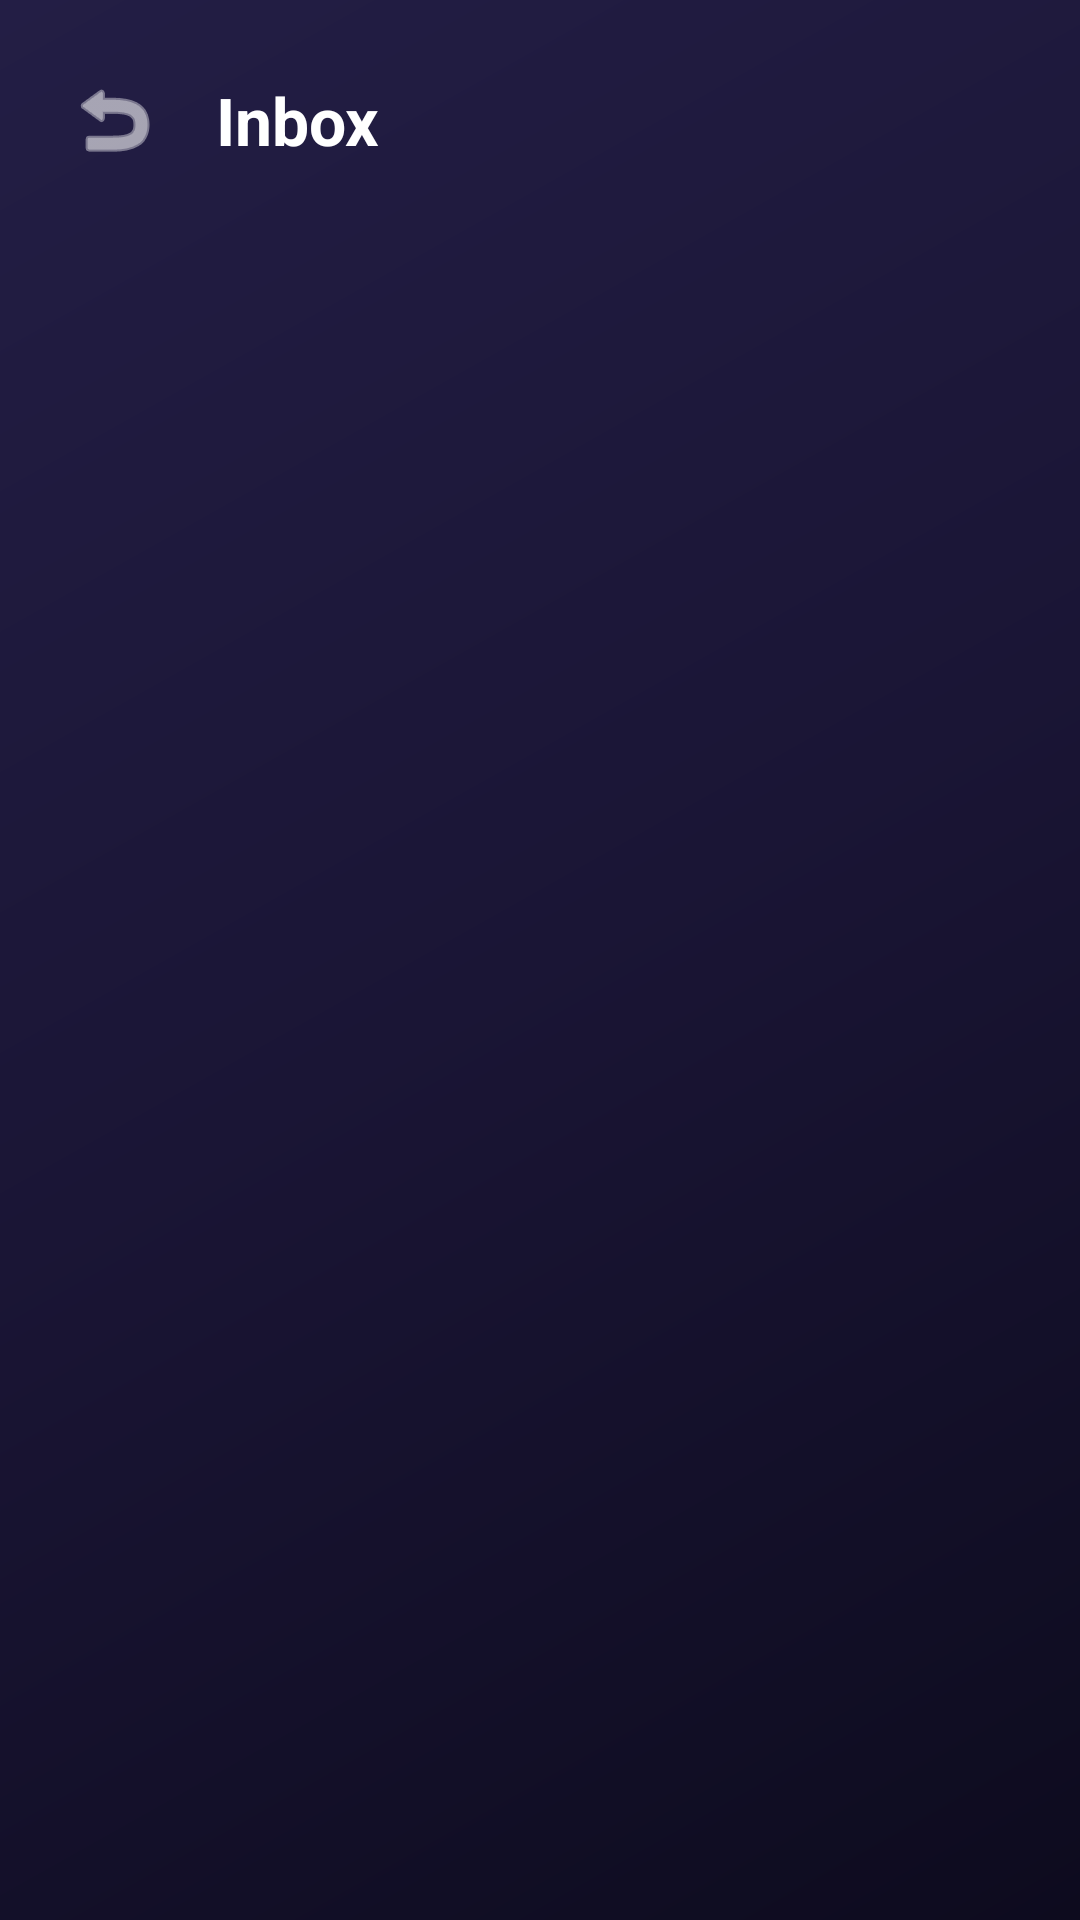

Icons on this 1080px×1920px Android screen, each with the point to tap as (x,y):
Back: (115,120)
